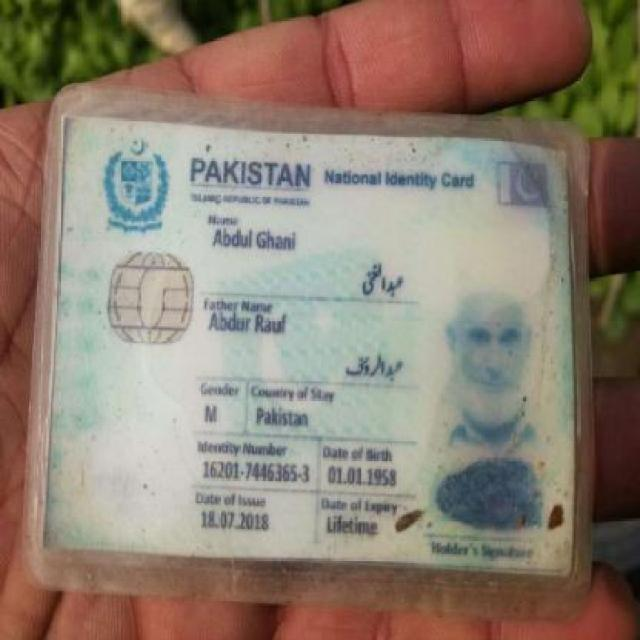Front: (40, 105, 586, 583)
